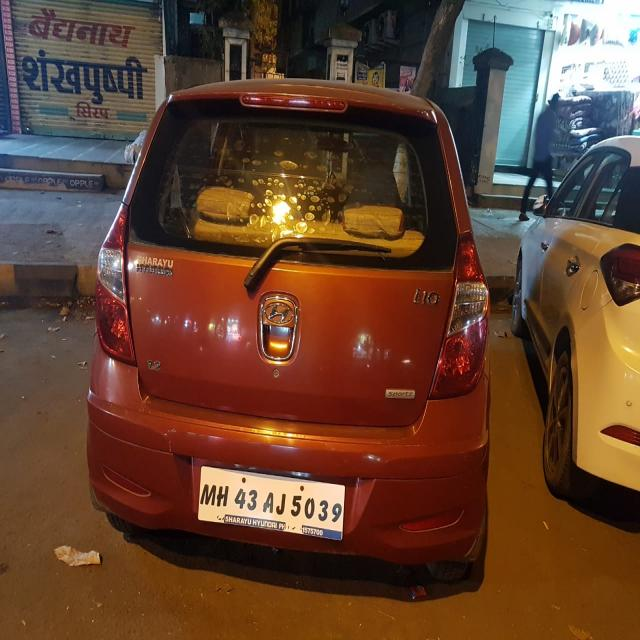Number-Plate: (202, 470, 344, 530)
